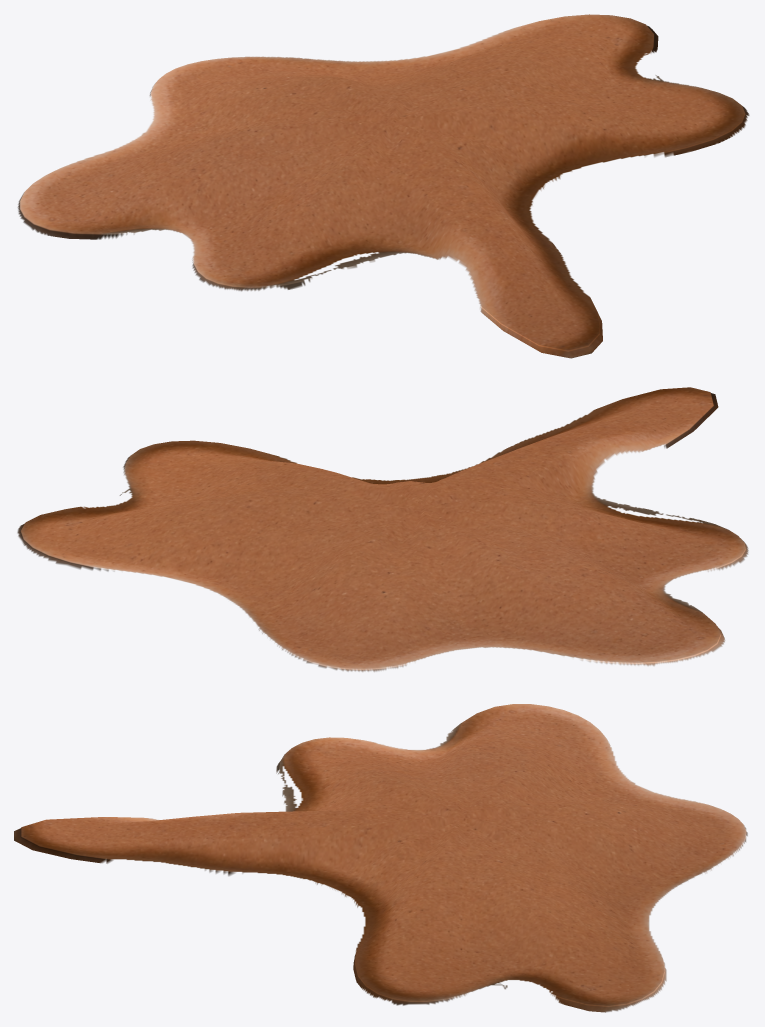
File: dirt_3.glb
3 renders of one model, top to bottom at view 1: azimuth 30°, elevation 25°; view 2: azimuth 150°, elevation 25°; view 3: azimuth 270°, elevation 25°, orthographic. The views are drawn at different scales.
Parts seen in each view (by area): view 1: dirt_3; view 2: dirt_3; view 3: dirt_3.
Boxes of the visible parts, x1=… form: dirt_3: x1=17, y1=14, x2=749, y2=358; dirt_3: x1=17, y1=387, x2=748, y2=672; dirt_3: x1=14, y1=704, x2=747, y2=1012.
Size of the model in its own units: 0.8446 by 0.0583 by 0.8569.
1 material, 1 textured.
